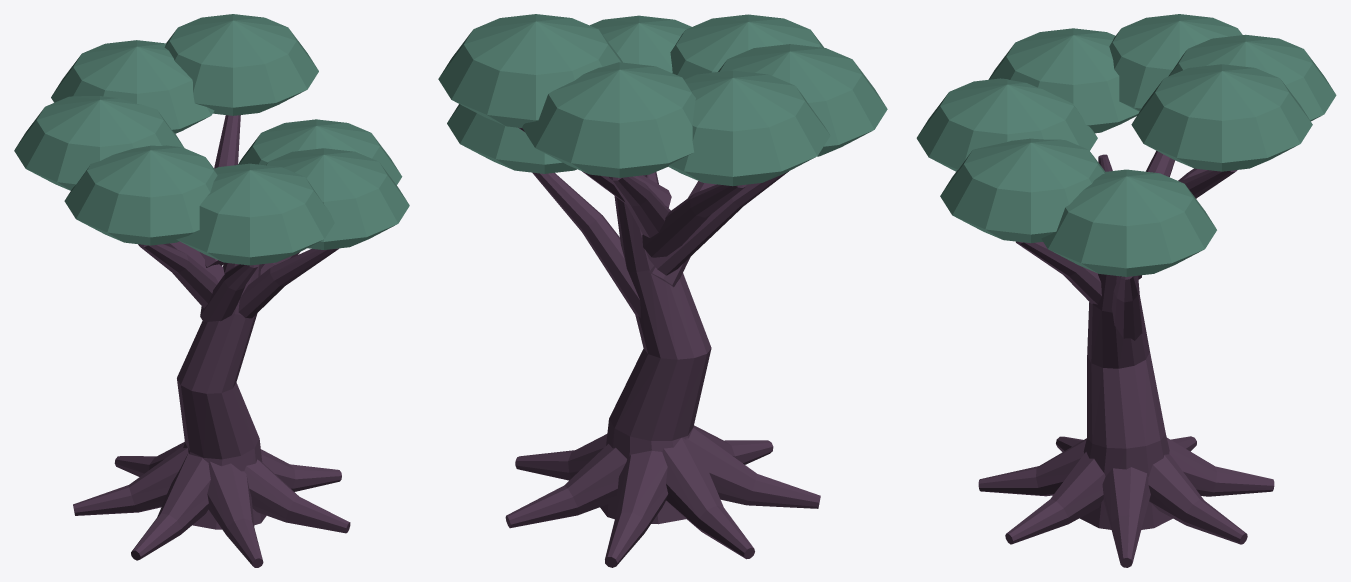
The model's file is Tree.obj.
3 renders of one model, left to right at view 1: azimuth 30°, elevation 25°; view 2: azimuth 150°, elevation 25°; view 3: azimuth 270°, elevation 25°, orthographic. The views are drawn at different scales.
Parts seen in each view (by area): view 1: Tree; view 2: Tree; view 3: Tree.
Part boxes in pixels (x1,y1,x2,y2): Tree: (14,14,409,567); Tree: (438,14,887,567); Tree: (916,14,1336,567).
Bounding box in the file's own units: 5.25 × 6.57 × 5.32.
